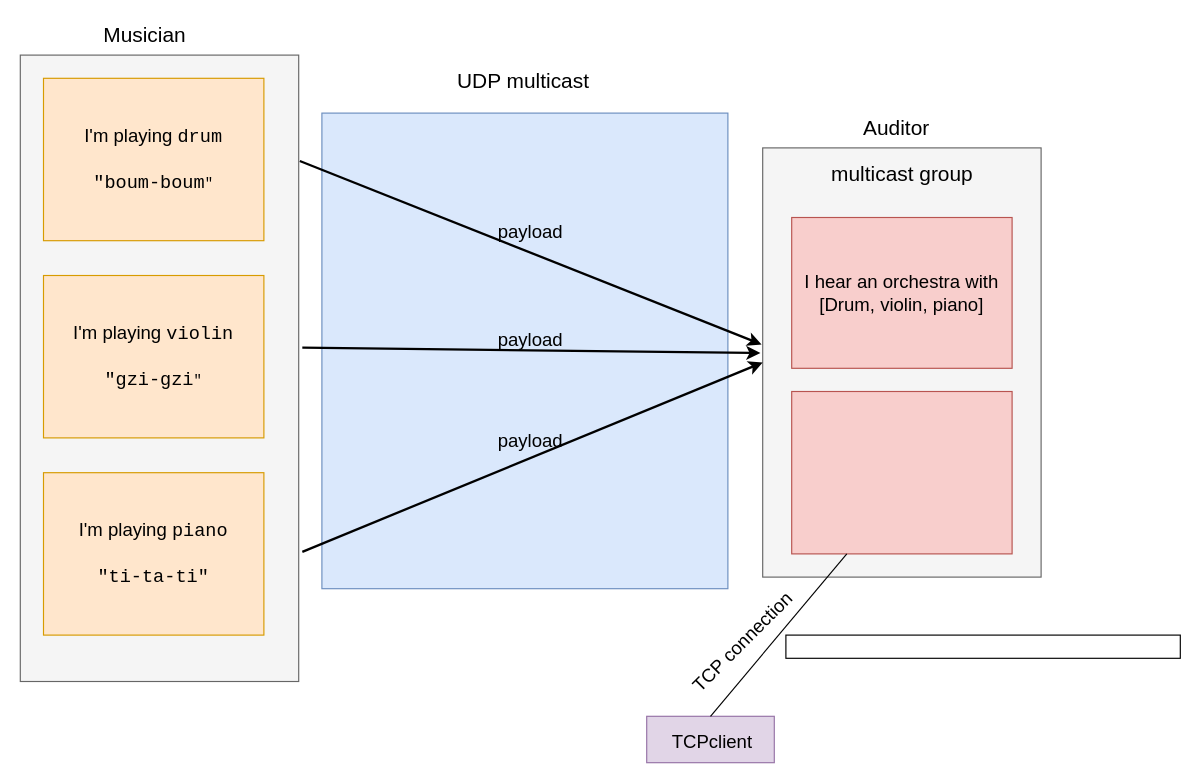
This 1201x783 diagram has some shape labels left out. The box of each missing label's shape, as (x1, y1, x2, y2) in pixels:
Hey, tell me which musicians do you listen to !: (785, 634, 1180, 658)
I hear an orchestra with [Drum, violin, piano ]: (791, 390, 1012, 554)
